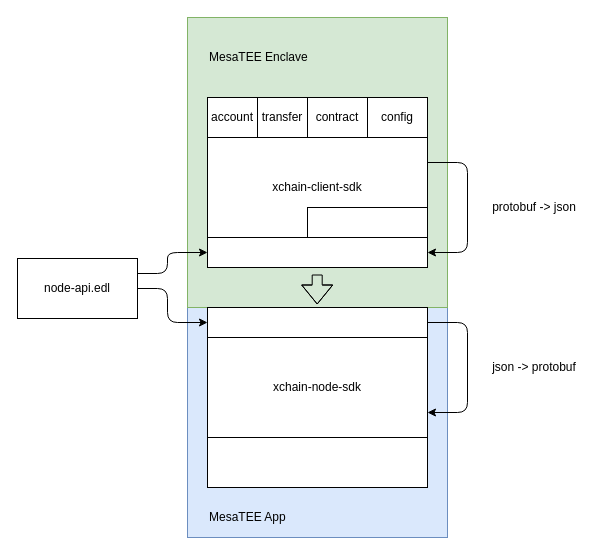
This 602x555 diagram has some shape labels left out. Each missing label, with the centre of its shape:
"grpc" belongs at (317,462).
"trusted-node-api.h" belongs at (317,252).
"untrusted-node-api.h" belongs at (317,322).
"xchain-crypto" belongs at (367,222).
